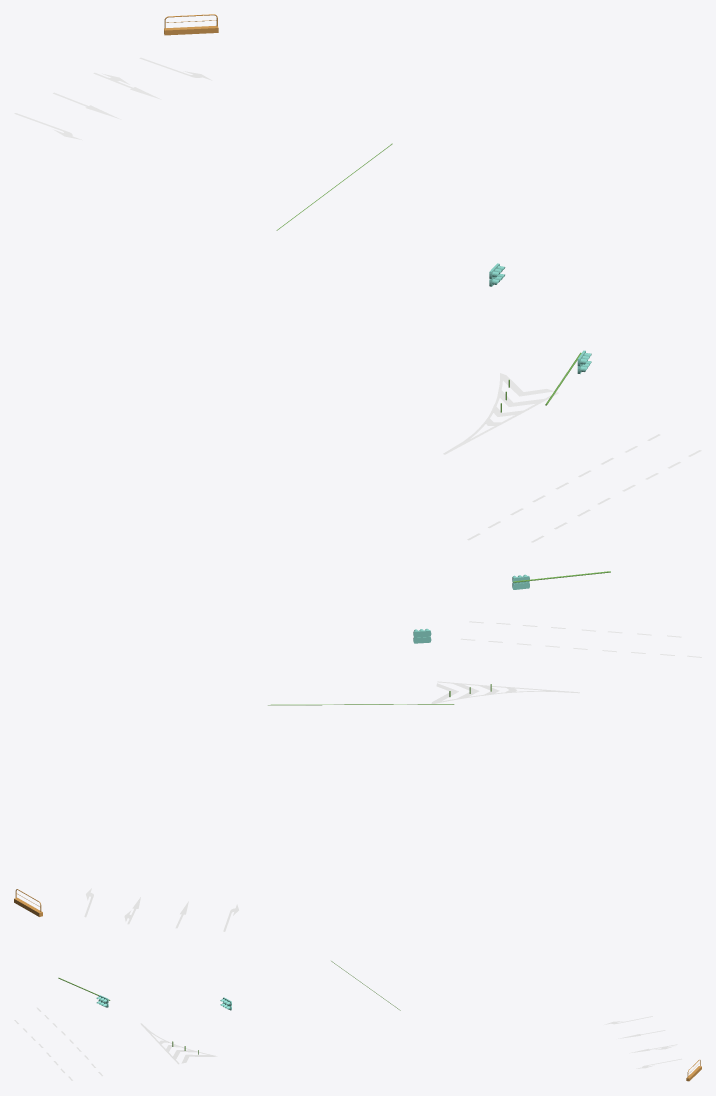
File: data159.glb
3 renders of one model, top to bottom at view 1: azimuth 30°, elevation 25°; view 2: azimuth 150°, elevation 25°; view 3: azimuth 270°, elevation 25°, orthographic. The views are drawn at different scales.
Size of the model in its own units: 19.78 by 6.75 by 65.24.
4 materials, 1 textured.
